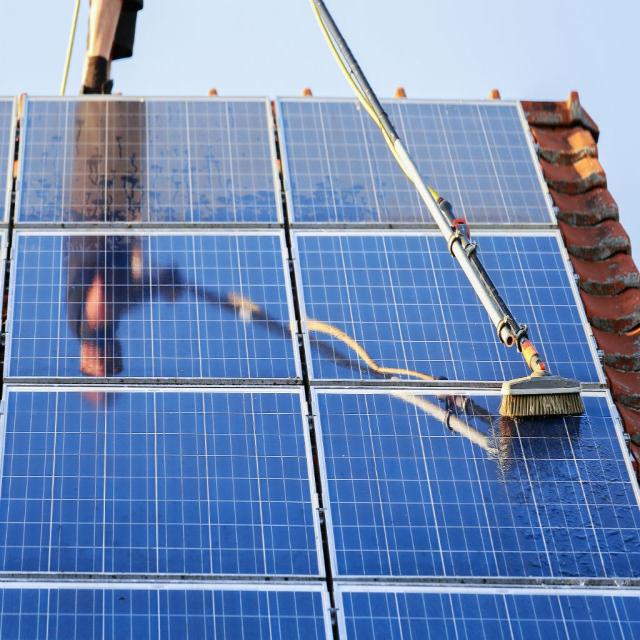clean-solar-panel: (0, 230, 640, 640)
dust-solar-panel: (15, 98, 282, 228), (386, 102, 555, 227), (276, 98, 432, 228)
